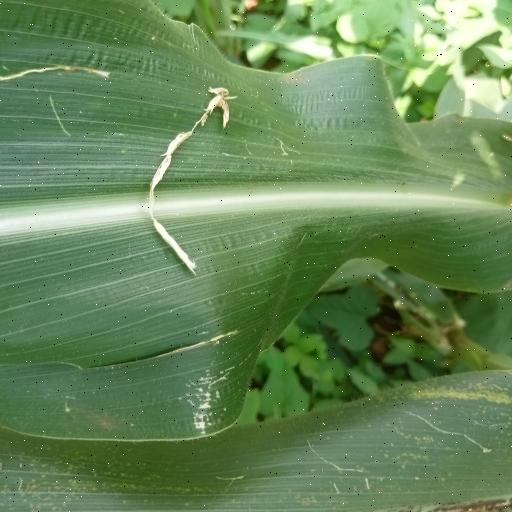Corn_Brown_Spots: (7, 4, 512, 420)
